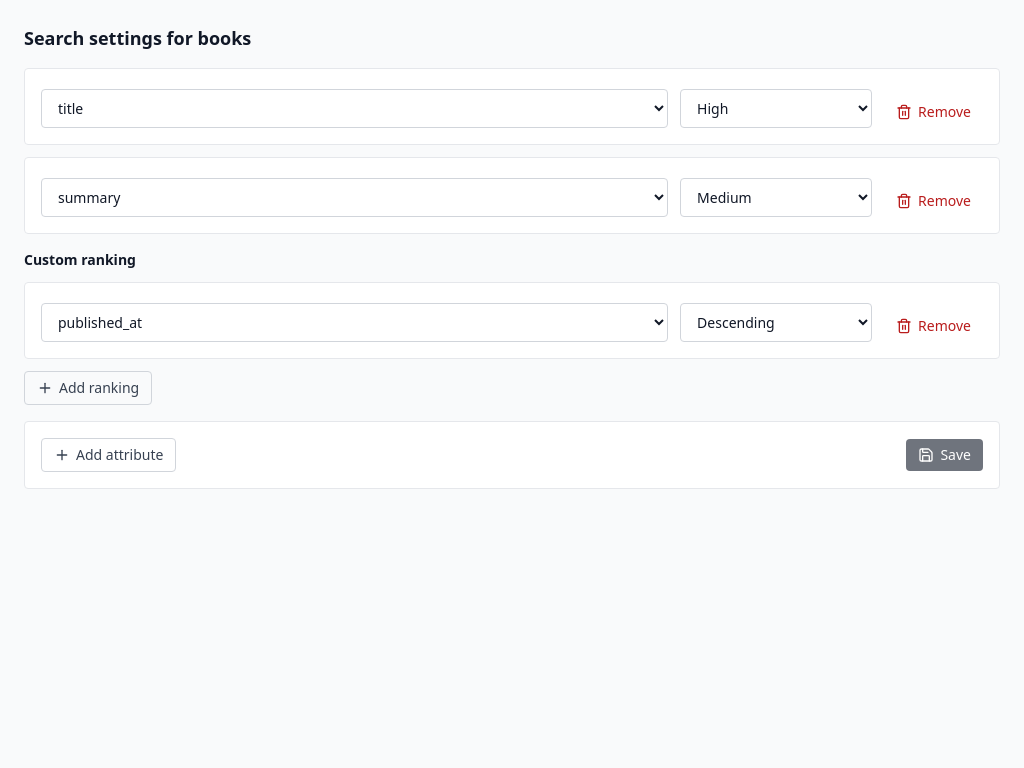
SearchSettingsEditor › preserves the draft and shows backend save errors
The width and height of the screenshot is (1024, 768).
Expected: the heading "Search settings for books" is shown, [24, 26, 251, 50]
Step 1. Select "Low" in the dropdown named "Weight for summary" → [776, 198], box [680, 178, 872, 217]
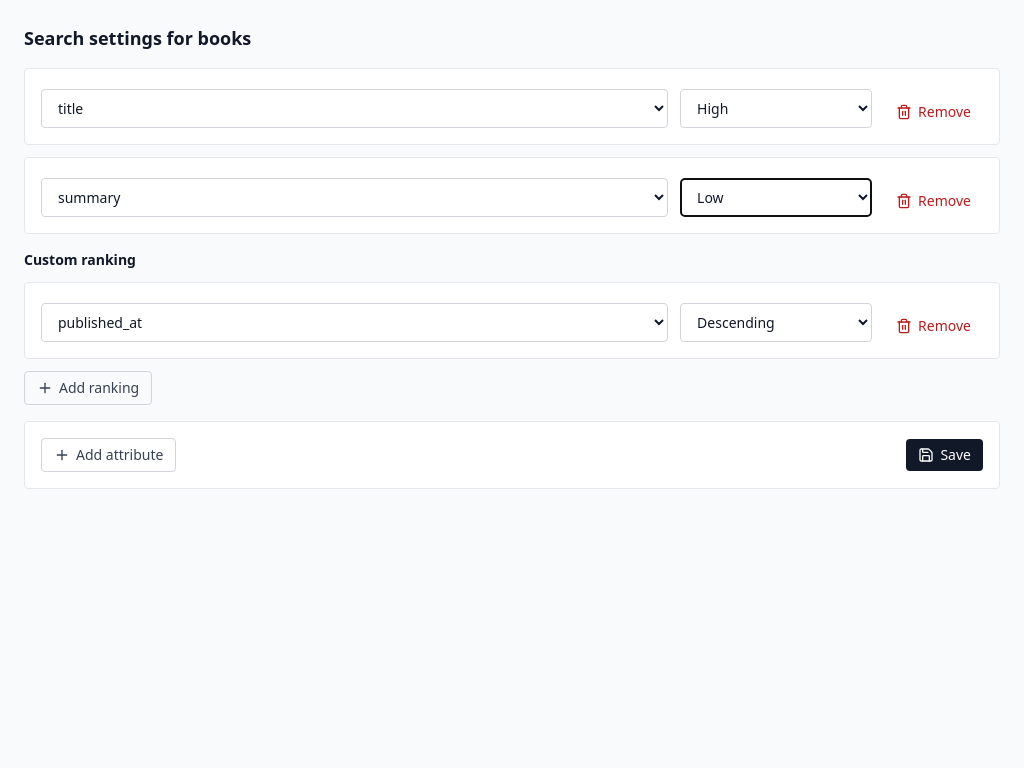
Step 2. Click the button "Save" → [945, 455], box [906, 439, 983, 471]
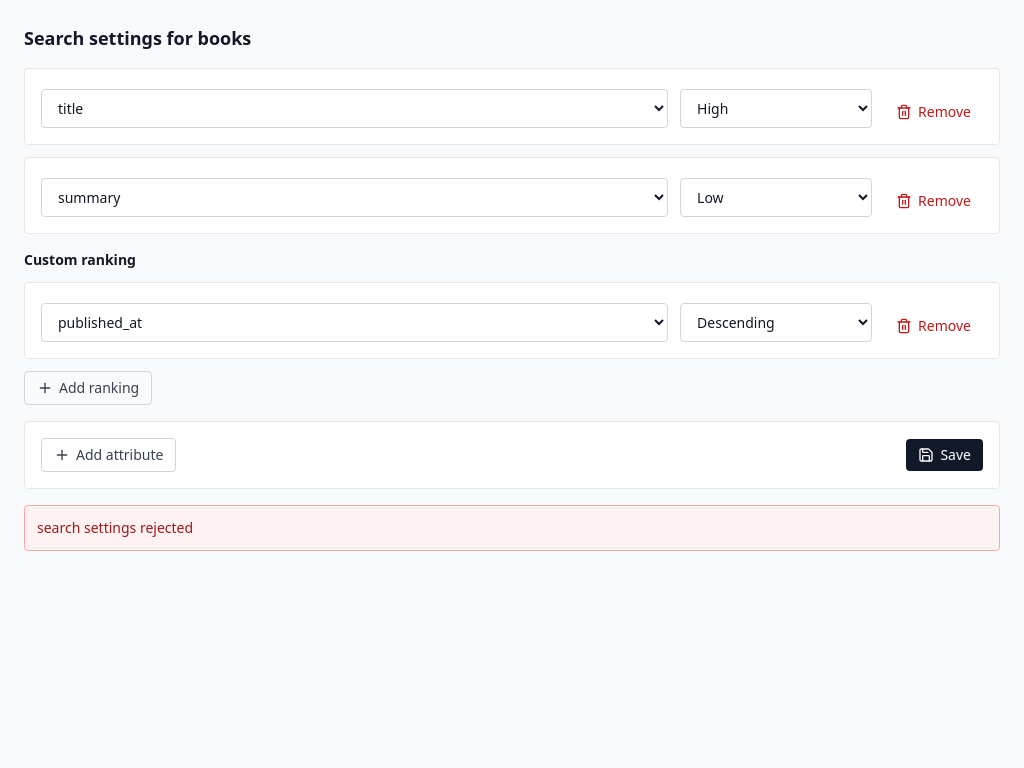
Result: the text "search settings rejected" is shown at [24, 505, 1000, 551]
